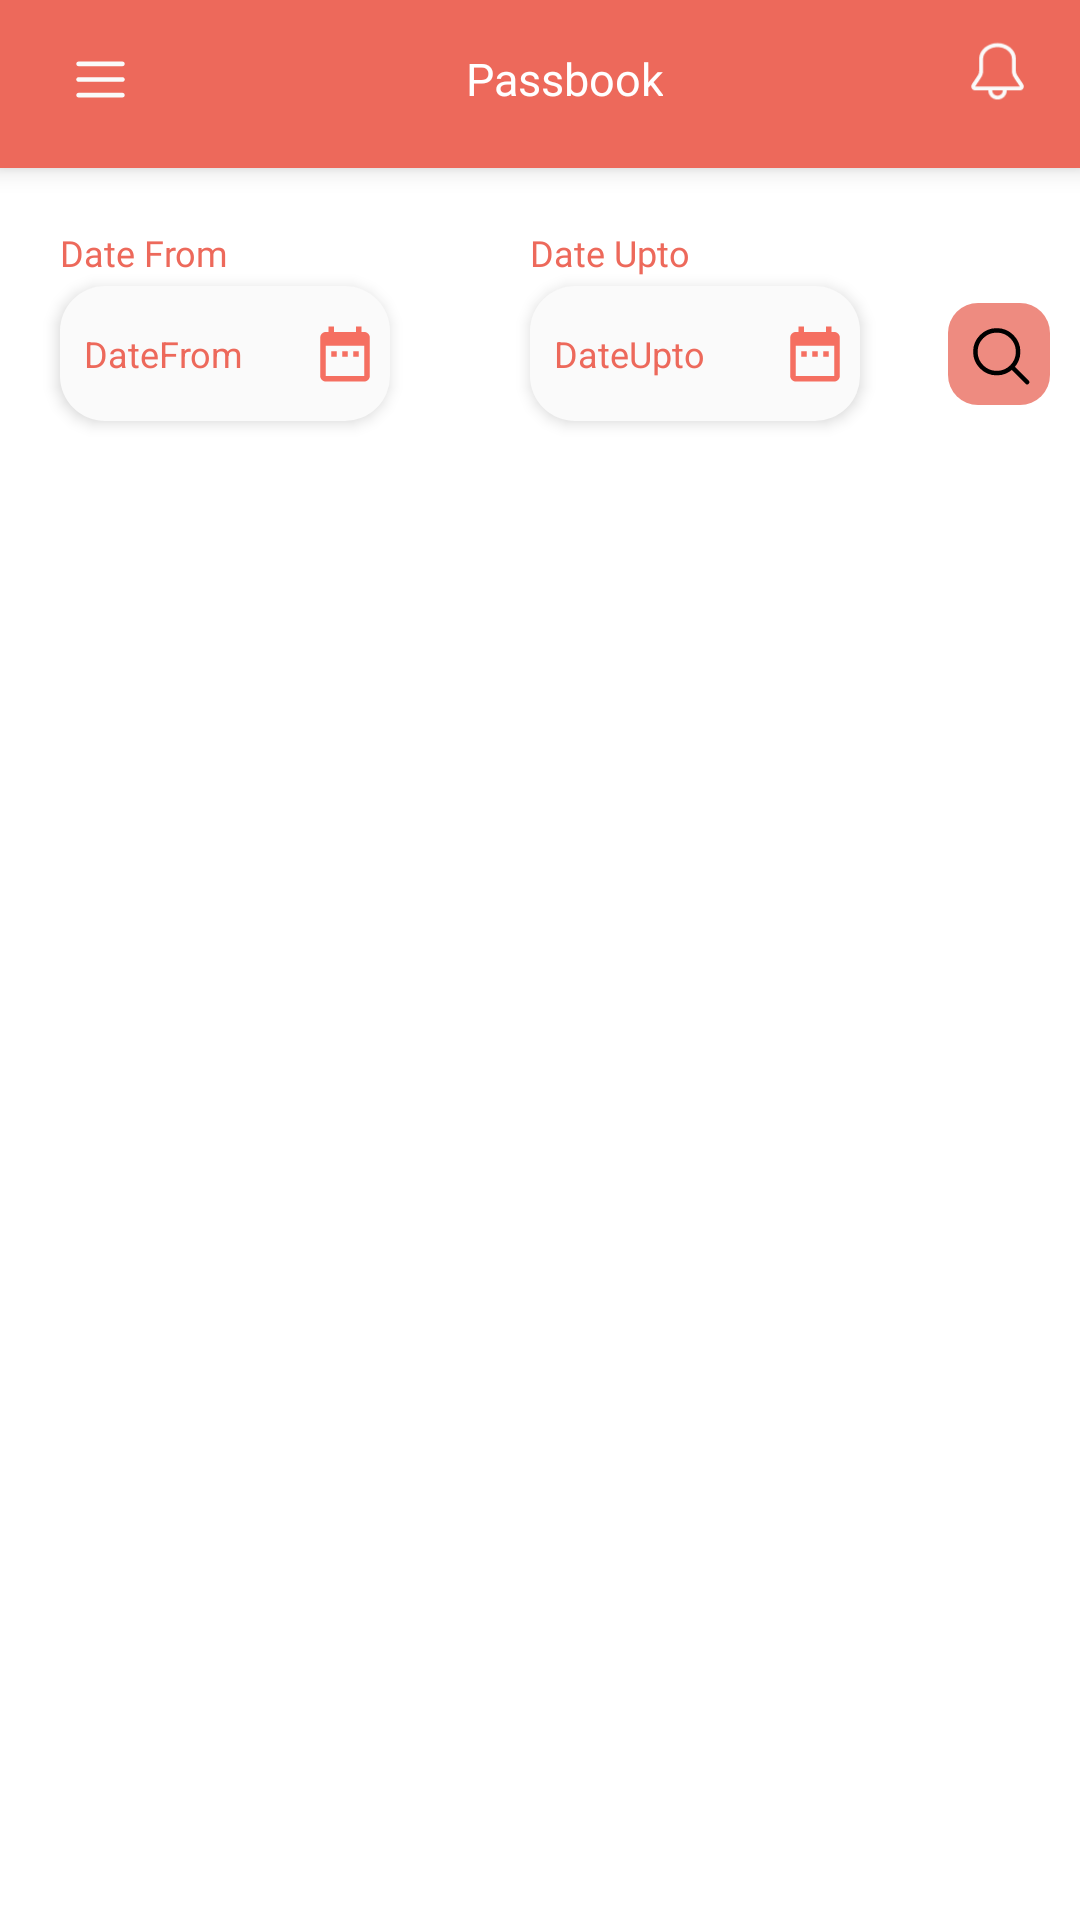

Named icons in this screenshot (1080x1920) and their centers, point (x, y):
bell: point (997, 71)
charm search: point (999, 354)
date range: point (345, 354), point (815, 354)
menu: point (100, 79)
